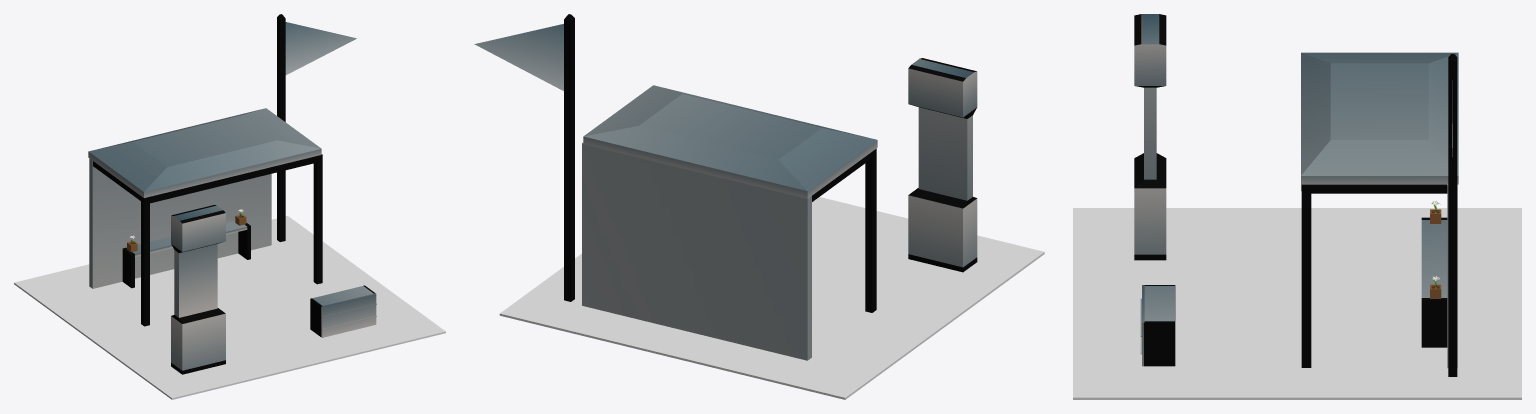
Rendered from stand_silver.glb.
3 views of the same model, side by side, from view 1: azimuth 30°, elevation 25°; view 2: azimuth 150°, elevation 25°; view 3: azimuth 270°, elevation 25° (orthographic). The views are drawn at different scales.
Parts seen in each view (by area): view 1: Cube.014, Cube, Cube.002, Cube.001, Cube.004, Plane, Cube.012, Cube.013, Cube.005, Cube.009, Cube.006, Cube.008 (+2 smaller); view 2: Cube.002, Cube.014, Cube, Cube.001, Cube.013, Plane, Cube.004; view 3: Cube.014, Cube, Cube.001, Cube.013, Cube.004, Cube.006, Cube.010, Cube.003, Cube.007, Cube.009, Cube.002.
Boxes of the visible parts, x1,y1,x2,y2 form: Cube.014: (14, 216, 445, 399); Cube: (88, 108, 321, 197); Cube.002: (89, 158, 271, 288); Cube.001: (171, 205, 225, 374); Cube.004: (141, 154, 322, 326); Plane: (285, 22, 356, 74); Cube.012: (321, 293, 376, 337); Cube.013: (277, 14, 285, 241); Cube.005: (150, 156, 316, 203); Cube.009: (312, 286, 373, 305); Cube.006: (126, 221, 247, 256); Cube.008: (122, 247, 134, 288); Cube.002: (582, 142, 811, 360); Cube.014: (499, 197, 1044, 399); Cube: (583, 85, 877, 198); Cube.001: (908, 58, 977, 272); Cube.013: (564, 14, 574, 301); Plane: (474, 24, 563, 90); Cube.004: (865, 148, 876, 312); Cube.014: (1073, 208, 1521, 399); Cube: (1301, 52, 1458, 184); Cube.001: (1134, 14, 1166, 260); Cube.013: (1448, 54, 1457, 376); Cube.004: (1301, 184, 1311, 367); Cube.006: (1421, 220, 1447, 297); Cube.010: (1144, 321, 1175, 366); Cube.003: (1310, 184, 1447, 193); Cube.007: (1421, 298, 1447, 347); Cube.009: (1144, 286, 1174, 321); Cube.002: (1447, 184, 1457, 368).
Bounding box in the file's own units: 6.73 × 4.61 × 5.78.
Materials: 7 (3 with a texture image).
